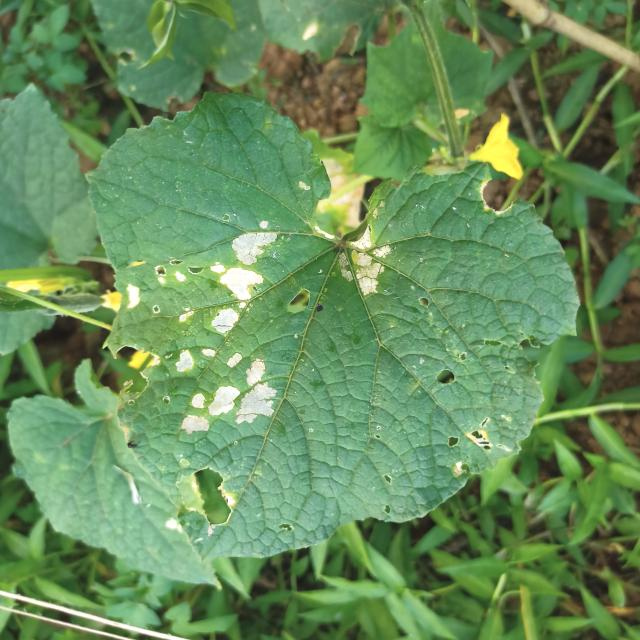disease_cucumber: (121, 214, 286, 344), (160, 345, 286, 451), (326, 222, 402, 310)
